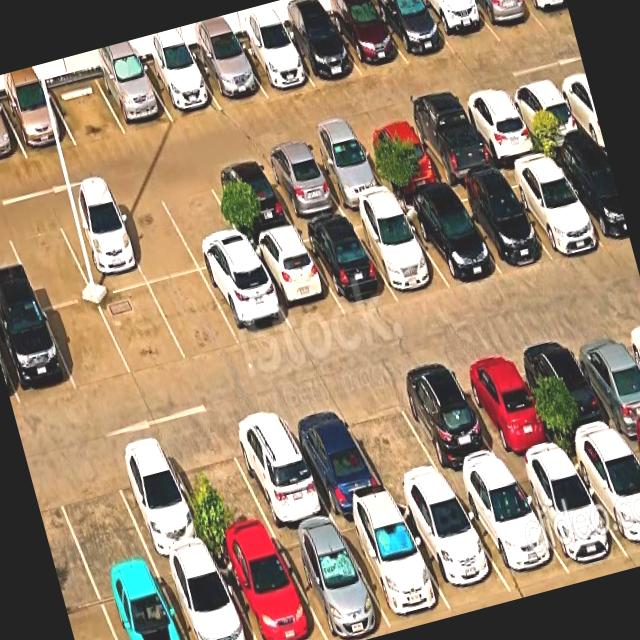car: (335, 503, 453, 632), (389, 364, 508, 486), (273, 521, 391, 640), (510, 456, 628, 574), (453, 471, 569, 591), (395, 489, 511, 608), (449, 348, 563, 469), (222, 407, 332, 532), (105, 440, 212, 564), (279, 397, 388, 516), (515, 332, 622, 451), (213, 536, 326, 640), (499, 158, 605, 257), (447, 177, 550, 273), (398, 192, 501, 288), (248, 230, 344, 332), (298, 217, 396, 315), (348, 205, 449, 298), (567, 437, 640, 563), (155, 551, 255, 640), (54, 201, 147, 296), (564, 321, 640, 436), (549, 145, 631, 247), (201, 258, 292, 345), (0, 307, 76, 406), (404, 105, 496, 185), (206, 159, 294, 241), (94, 566, 186, 640), (257, 147, 344, 225), (304, 134, 390, 210), (355, 120, 443, 194), (458, 90, 542, 165), (504, 77, 588, 151), (327, 1, 407, 76), (281, 17, 361, 86), (95, 64, 173, 134), (141, 54, 221, 122), (0, 87, 76, 158), (371, 0, 454, 64), (234, 32, 314, 97), (192, 44, 266, 109), (418, 0, 500, 55), (469, 0, 545, 41), (0, 101, 27, 165), (524, 0, 571, 28)
free: (164, 427, 274, 549), (335, 382, 449, 498), (48, 454, 152, 581), (156, 173, 249, 270), (109, 189, 198, 283), (4, 214, 92, 309), (97, 284, 187, 376), (149, 271, 240, 361), (43, 298, 131, 391), (48, 75, 125, 145)
